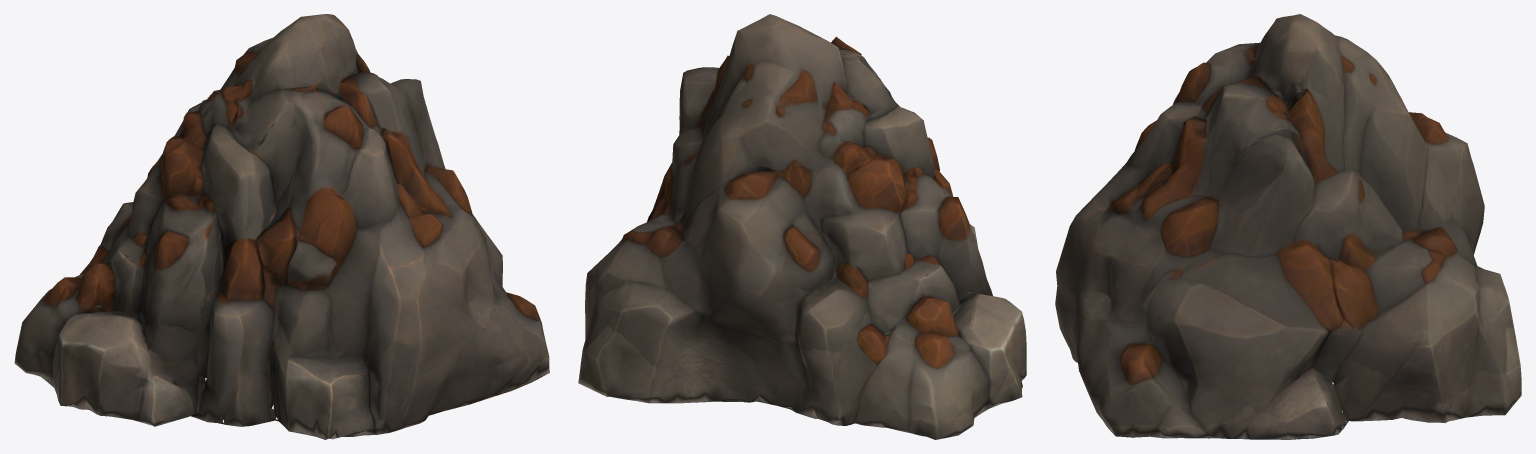
The model's file is rock-2.glb.
3 renders of one model, left to right at view 1: azimuth 30°, elevation 25°; view 2: azimuth 150°, elevation 25°; view 3: azimuth 270°, elevation 25°, orthographic. The views are drawn at different scales.
Bounding box in the file's own units: 2 × 1.54 × 1.89.
1 material, 1 textured.
